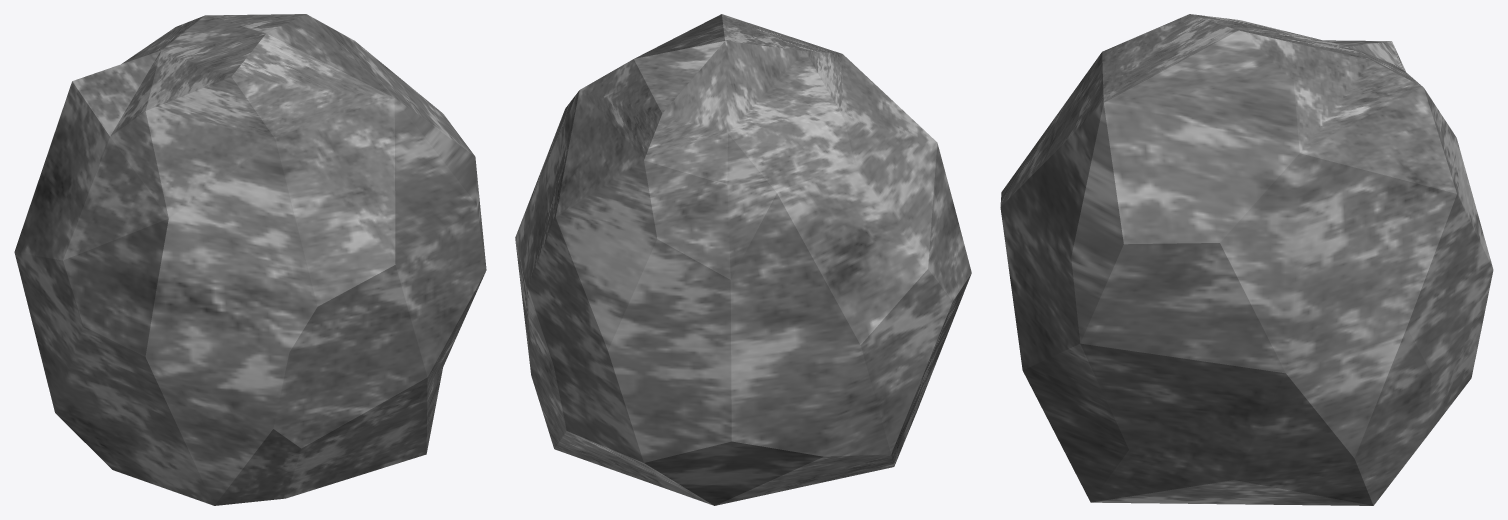
The model's file is eff_Rock04.fbx.
The picture shows the model from 3 angles, left to right: view 1: azimuth 30°, elevation 25°; view 2: azimuth 150°, elevation 25°; view 3: azimuth 270°, elevation 25°; orthographic projection. The views are drawn at different scales.
Parts seen in each view (by area): view 1: eff_Rock04_msh; view 2: eff_Rock04_msh; view 3: eff_Rock04_msh.
Boxes of the visible parts, bbox=[...] form: eff_Rock04_msh: bbox=[14, 14, 486, 505]; eff_Rock04_msh: bbox=[515, 14, 971, 505]; eff_Rock04_msh: bbox=[1000, 14, 1493, 505].
Size of the model in its own units: 1.44 by 1.38 by 1.46.
